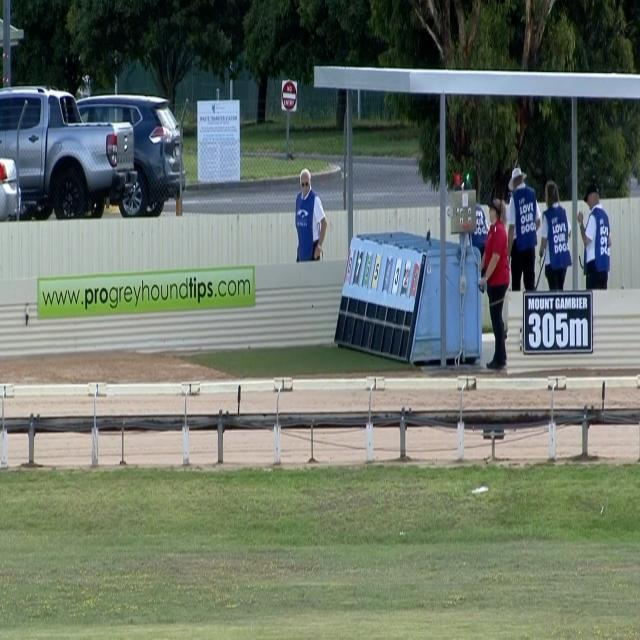rail: (0, 405, 640, 436)
